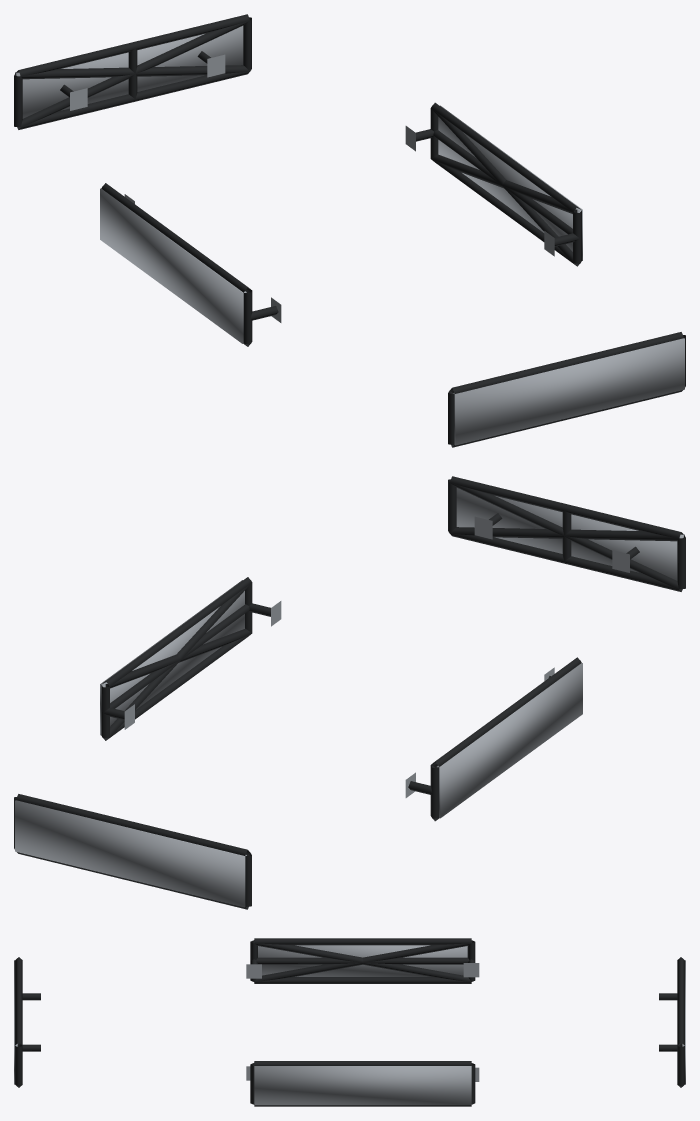
Rendered from kanaya_rasante_protecao.glb.
3 renders of one model, top to bottom at view 1: azimuth 30°, elevation 25°; view 2: azimuth 150°, elevation 25°; view 3: azimuth 270°, elevation 25°, orthographic. The views are drawn at different scales.
Visible parts, largest first — view 1: Protection_front_Level3_Details, Protection_left_Level3_Details, Protection_rear_Level1_Details, Protection_rear_Level3_Details, Protection_right_Level1_Details, Protection_rear_Level2_Details, Protection_right_Level2_Details, Protection_right_Level3_Details, Protection_front_Level1_Details, Protection_left_Level1_Details; view 2: Protection_rear_Level3_Details, Protection_left_Level3_Details, Protection_front_Level1_Details, Protection_front_Level3_Details, Protection_right_Level1_Details, Protection_front_Level2_Details, Protection_right_Level2_Details, Protection_right_Level3_Details, Protection_rear_Level1_Details, Protection_left_Level1_Details; view 3: Protection_right_Level3_Details, Protection_left_Level2_Details, Protection_left_Level1_Details, Protection_left_Level3_Details, Protection_right_Level1_Details, Protection_rear_Level1_Details, Protection_front_Level1_Details.
Part boxes in pixels (bbox=[...]): Protection_front_Level3_Details: bbox=[453, 338, 684, 445]; Protection_left_Level3_Details: bbox=[100, 188, 246, 343]; Protection_rear_Level1_Details: bbox=[14, 14, 251, 129]; Protection_rear_Level3_Details: bbox=[15, 26, 243, 118]; Protection_right_Level1_Details: bbox=[405, 102, 581, 266]; Protection_rear_Level2_Details: bbox=[16, 21, 249, 128]; Protection_right_Level2_Details: bbox=[431, 108, 580, 265]; Protection_right_Level3_Details: bbox=[438, 105, 582, 260]; Protection_front_Level1_Details: bbox=[448, 332, 685, 447]; Protection_left_Level1_Details: bbox=[101, 183, 281, 346]; Protection_rear_Level3_Details: bbox=[15, 800, 246, 907]; Protection_left_Level3_Details: bbox=[436, 663, 582, 818]; Protection_front_Level1_Details: bbox=[448, 476, 685, 591]; Protection_front_Level3_Details: bbox=[456, 488, 684, 580]; Protection_right_Level1_Details: bbox=[101, 577, 281, 740]; Protection_front_Level2_Details: bbox=[450, 483, 683, 590]; Protection_right_Level2_Details: bbox=[102, 583, 251, 740]; Protection_right_Level3_Details: bbox=[100, 580, 244, 735]; Protection_rear_Level1_Details: bbox=[14, 794, 251, 909]; Protection_left_Level1_Details: bbox=[405, 657, 581, 821]; Protection_right_Level3_Details: bbox=[254, 1066, 471, 1105]; Protection_left_Level2_Details: bbox=[253, 940, 471, 982]; Protection_left_Level1_Details: bbox=[246, 938, 479, 983]; Protection_left_Level3_Details: bbox=[258, 945, 467, 976]; Protection_right_Level1_Details: bbox=[246, 1061, 479, 1106]; Protection_rear_Level1_Details: bbox=[659, 957, 684, 1087]; Protection_front_Level1_Details: bbox=[15, 957, 40, 1087].
Size of the model in its own units: 2.1 by 0.354 by 4.7.
Materials: 1 (1 with a texture image).
